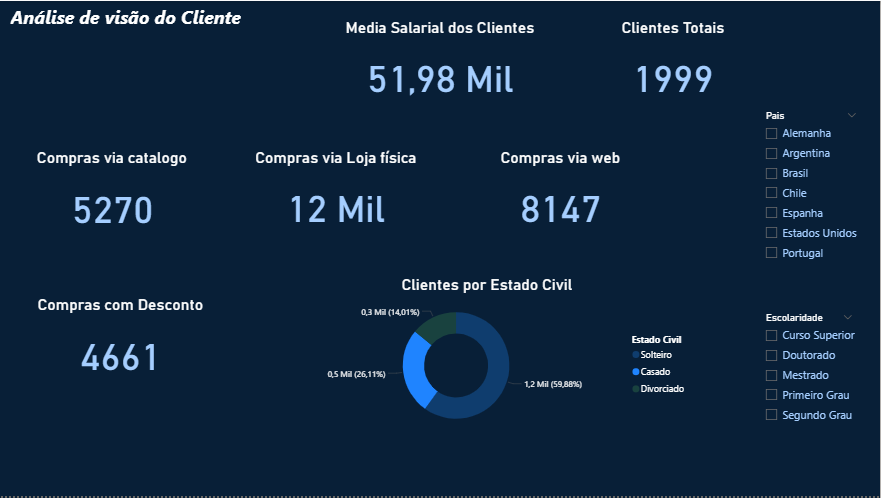

What the dashboard file says about the page in this screenshot:
{"tool":"powerbi","page":{"name":"Visão do Cliente","canvas":[1280,720],"ordinal":0},"visuals":[{"type":"textbox","box":[10.5,0,399.3,52.3],"z":0},{"type":"card","title":"Clientes Totais","fields":{"Values":["Count(dados marketing.ID)"]},"box":[897.5,26.2,162.9,135.3],"z":1000},{"type":"card","title":"Media Salarial dos Clientes","fields":{"Values":["Avg(dados marketing.Salario Anual)"]},"box":[477.1,26.2,325.8,133.8],"z":2000},{"type":"card","title":"Compras via catalogo","fields":{"Values":["Sum(dados marketing.Numero de Compras via Catalogo)"]},"box":[0,215.3,325.8,136.7],"z":3000},{"type":"card","title":"Compras via Loja física","fields":{"Values":["Sum(dados marketing.Numero de Compras na Loja)"]},"box":[325.8,215.3,325.8,135.3],"z":4000},{"type":"card","title":"Compras via web","fields":{"Values":["Sum(dados marketing.Numero de Compras na Web)"]},"box":[651.6,215.3,327.3,135.3],"z":5000},{"type":"card","title":"Compras com Desconto","fields":{"Values":["Sum(dados marketing.Numero de Compras com Desconto)"]},"box":[10.2,429.1,330.2,136.7],"z":6000},{"type":"donutChart","title":"Clientes por Estado Civil","fields":{"Category":["dados marketing.Estado Civil"],"Y":["CountNonNull(dados marketing.ID)"]},"box":[402.9,400,610.9,234.2],"z":7000},{"type":"slicer","fields":{"Values":["dados marketing.Escolaridade"]},"box":[1101.1,448,151.3,234.2],"z":8000},{"type":"slicer","fields":{"Values":["dados marketing.Pais"]},"box":[1101.1,154.2,157.1,260.4],"z":9000}]}

Visuals, with their boxes in screenshot pixels (x1, y1, x2, y2), scaled from the page's 1280x720 canvas onto the 881x498 screenshot:
textbox: <box>7,0,282,36</box>
"Clientes Totais" card: <box>618,18,730,112</box>
"Media Salarial dos Clientes" card: <box>328,18,553,111</box>
"Compras via catalogo" card: <box>0,149,224,243</box>
"Compras via Loja física" card: <box>224,149,448,242</box>
"Compras via web" card: <box>448,149,674,242</box>
"Compras com Desconto" card: <box>7,297,234,391</box>
"Clientes por Estado Civil" donutChart: <box>277,277,698,439</box>
slicer - dados marketing.Escolaridade: <box>758,310,862,472</box>
slicer - dados marketing.Pais: <box>758,107,866,287</box>
